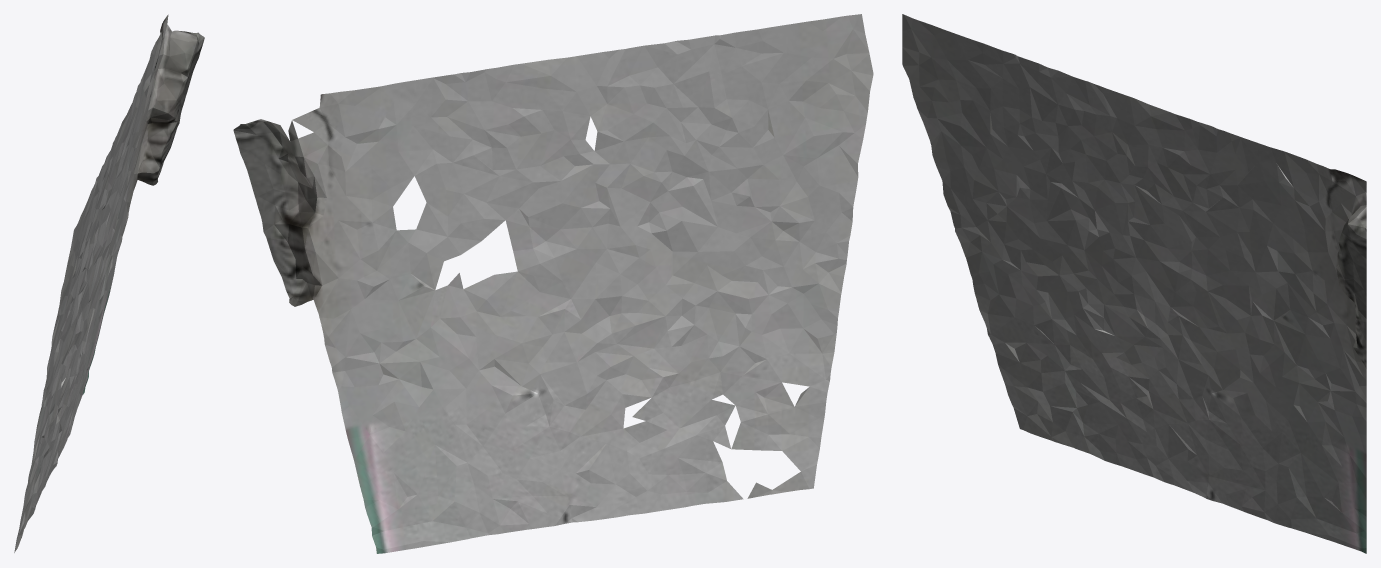
3 renders of one model, left to right at view 1: azimuth 30°, elevation 25°; view 2: azimuth 150°, elevation 25°; view 3: azimuth 270°, elevation 25°, orthographic. The views are drawn at different scales.
Bounding box in the file's own units: 0.8274 × 0.8374 × 0.8373.
3 materials, 3 textured.
